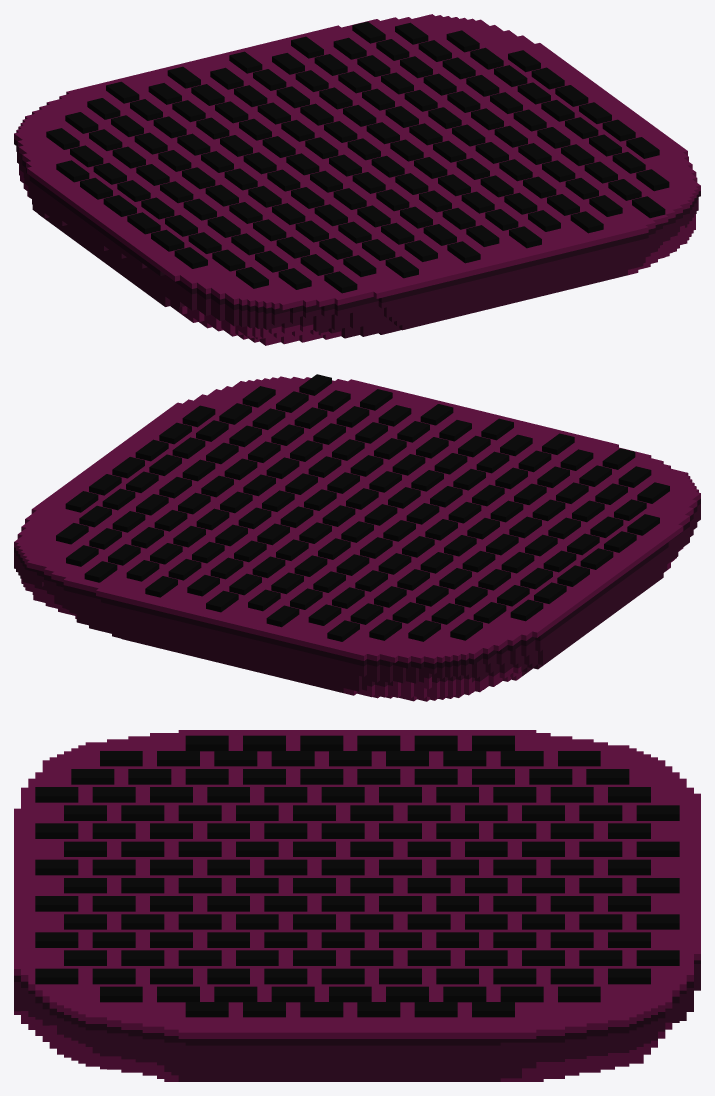
Rendered from CircleCastle.obj.
The picture shows the model from 3 angles, top to bottom: view 1: azimuth 30°, elevation 25°; view 2: azimuth 150°, elevation 25°; view 3: azimuth 270°, elevation 25°; orthographic projection. The views are drawn at different scales.
Parts seen in each view (by area): view 1: CircleCastle; view 2: CircleCastle; view 3: CircleCastle.
Boxes of the visible parts, bbox=[...] form: CircleCastle: bbox=[14, 14, 700, 345]; CircleCastle: bbox=[14, 374, 700, 701]; CircleCastle: bbox=[14, 730, 700, 1081].
Size of the model in its own units: 100 by 10 by 96.
Materials: 1 (1 with a texture image).
